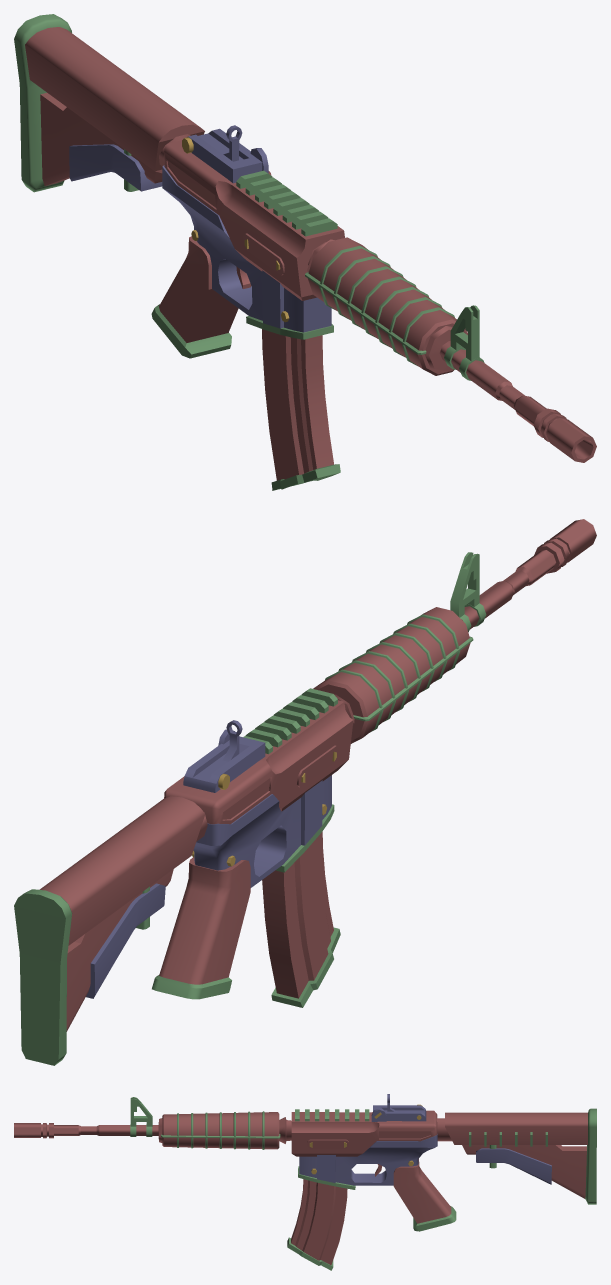
File: TAR.glb
The picture shows the model from 3 angles, top to bottom: view 1: azimuth 30°, elevation 25°; view 2: azimuth 150°, elevation 25°; view 3: azimuth 270°, elevation 25°; orthographic projection. The views are drawn at different scales.
Parts seen in each view (by area): view 1: tactical_new2; view 2: tactical_new2; view 3: tactical_new2.
Boxes of the visible parts, x1,y1,x2,y2 form: tactical_new2: [14, 14, 596, 490]; tactical_new2: [14, 519, 596, 1065]; tactical_new2: [14, 1094, 596, 1270].
Size of the model in its own units: 0.0515 by 0.2482 by 0.7611.
